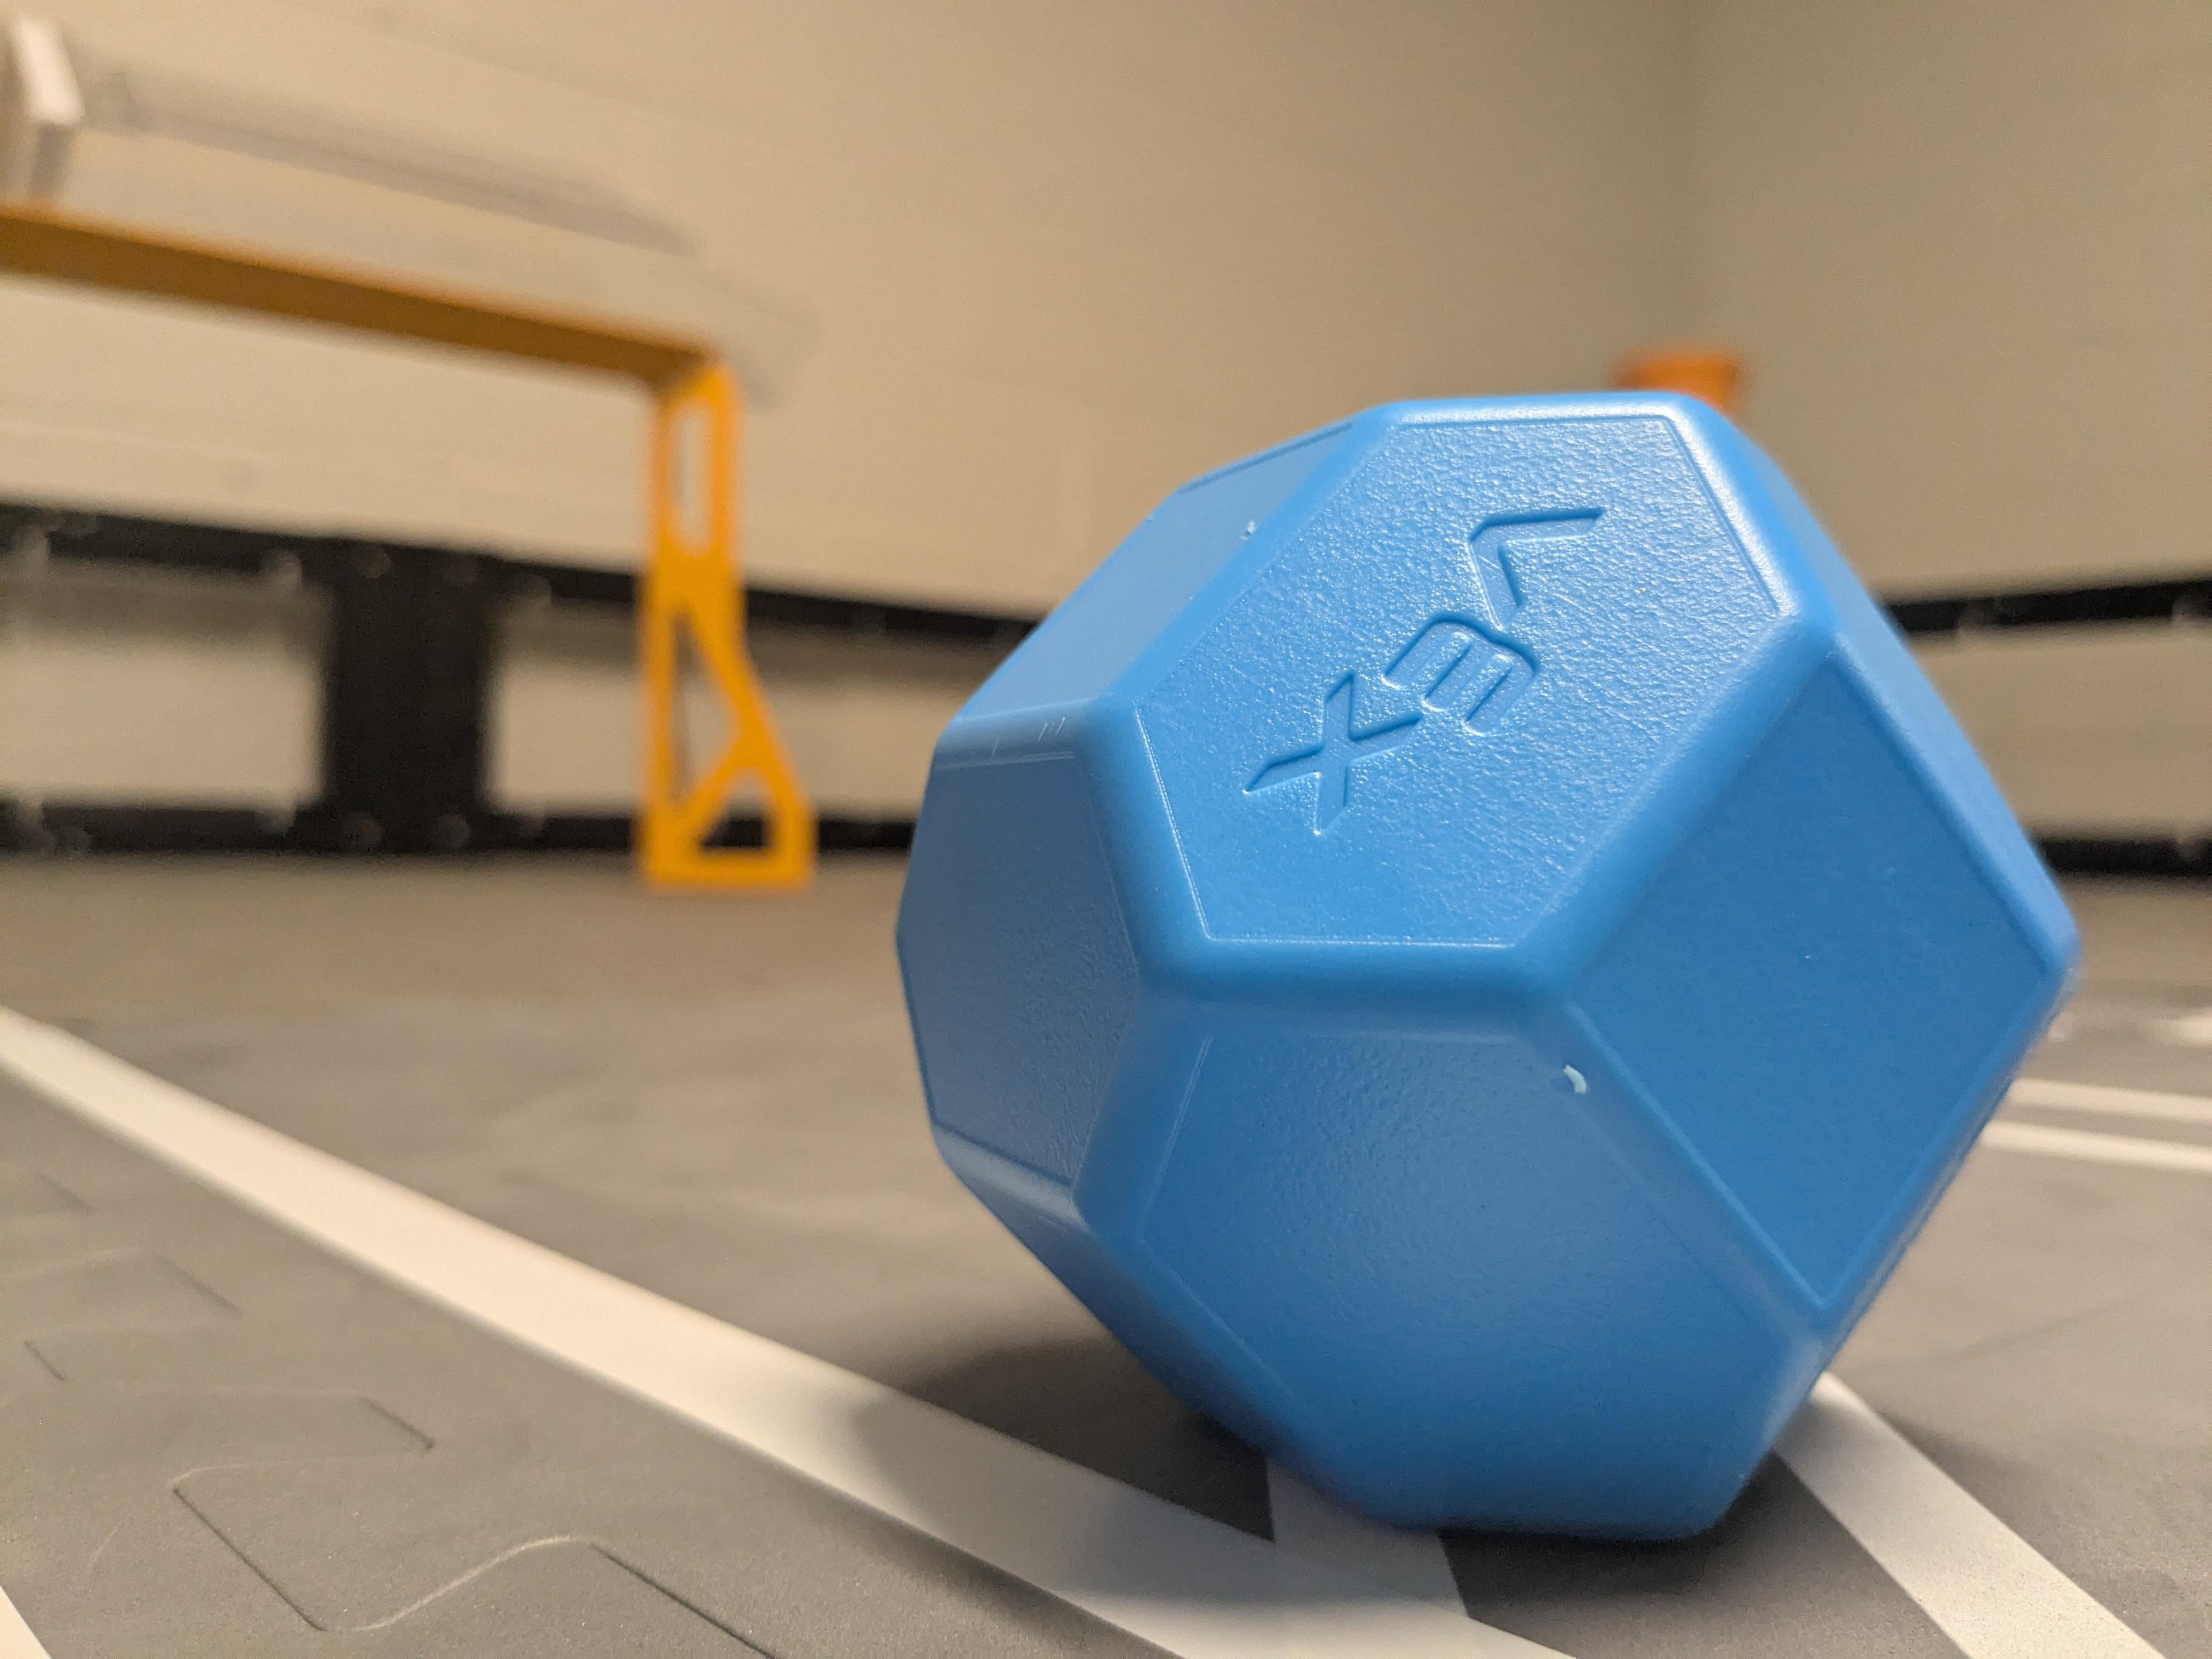Vex-Pieces-BLUE: (897, 392, 2076, 1535)
